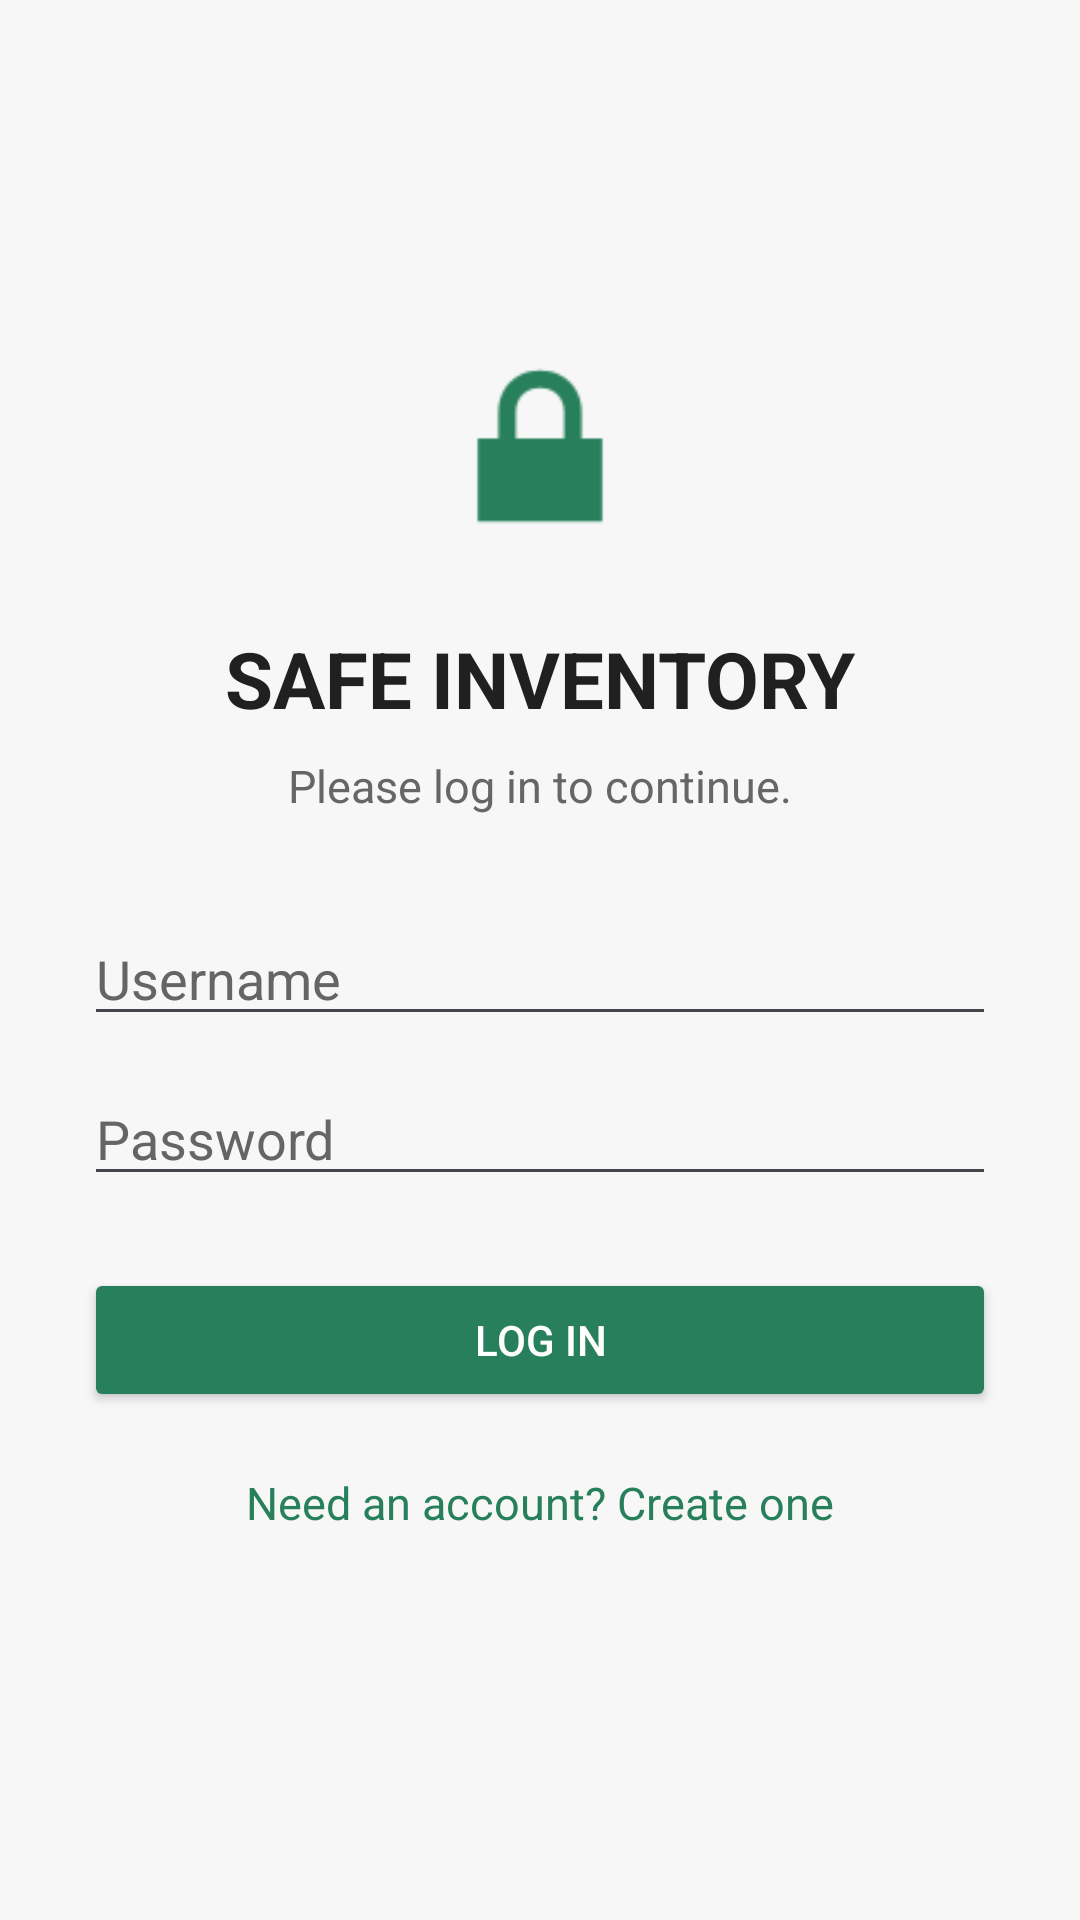

Icon click points for this 1080*1920 phone screenshot, format (x=x, y=y):
Safe security icon: (x=540, y=446)
